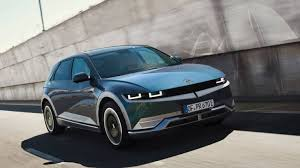Honda Ioniq: (38, 43, 242, 150)
